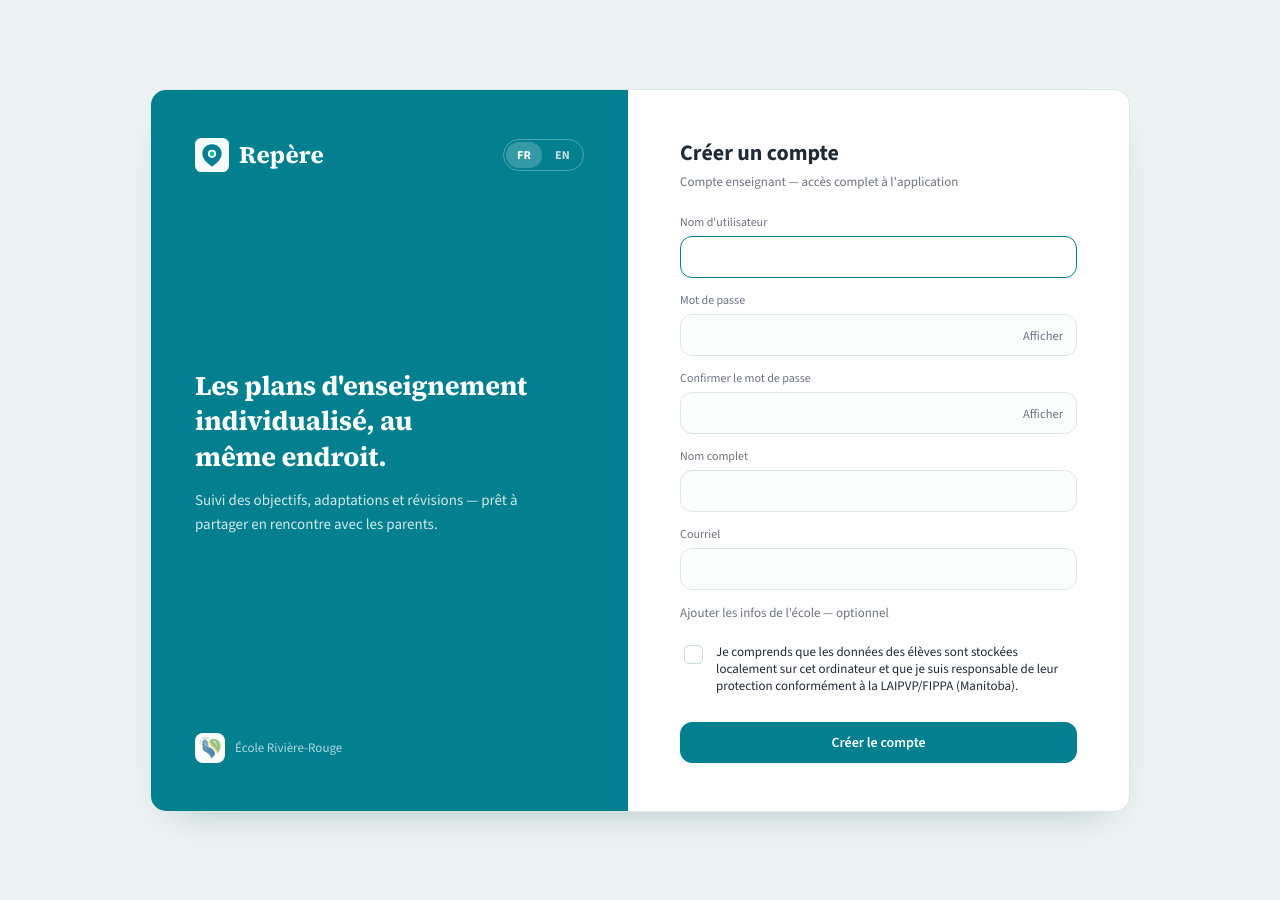
it: AuthScreen — creation de compte (validation cote client) › refuse une confirmation de mot de passe qui ne correspond pas
The width and height of the screenshot is (1280, 900).
Type "prof" into the field labelled "Nom d'utilisateur".
click(879, 256); type("prof")  # box left=680, top=236, right=1077, bottom=278
Type "test1234" into the password field labelled "Mot de passe".
click(879, 334); type("test1234")  # box left=680, top=314, right=1077, bottom=356
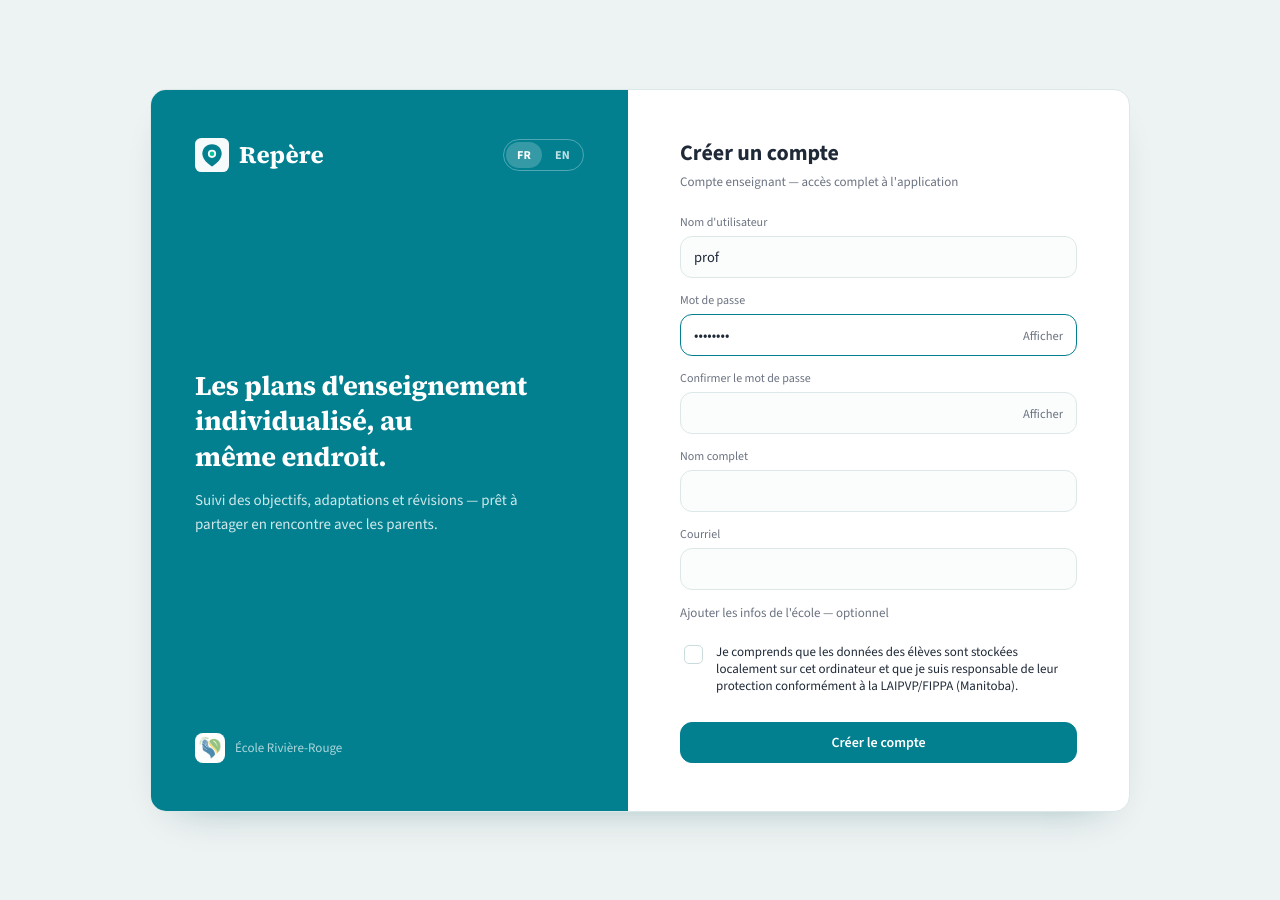
Type "test1234" into the password field labelled "Confirmer le mot de passe".
click(879, 412); type("test1234")  # box left=680, top=392, right=1077, bottom=434
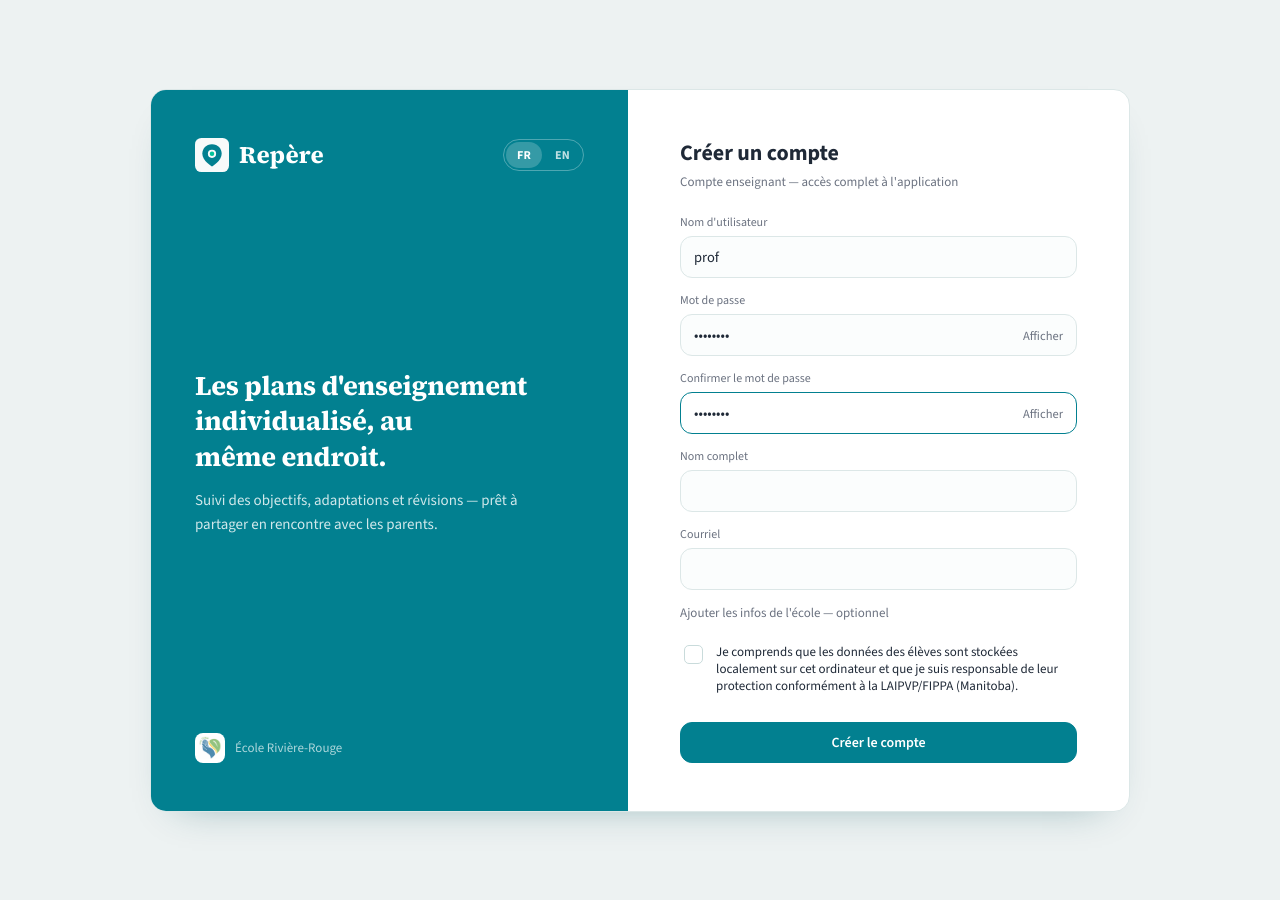
Type "Baudouin Mandan" into the field labelled "Nom complet".
click(879, 490); type("Baudouin Mandan")  # box left=680, top=470, right=1077, bottom=512
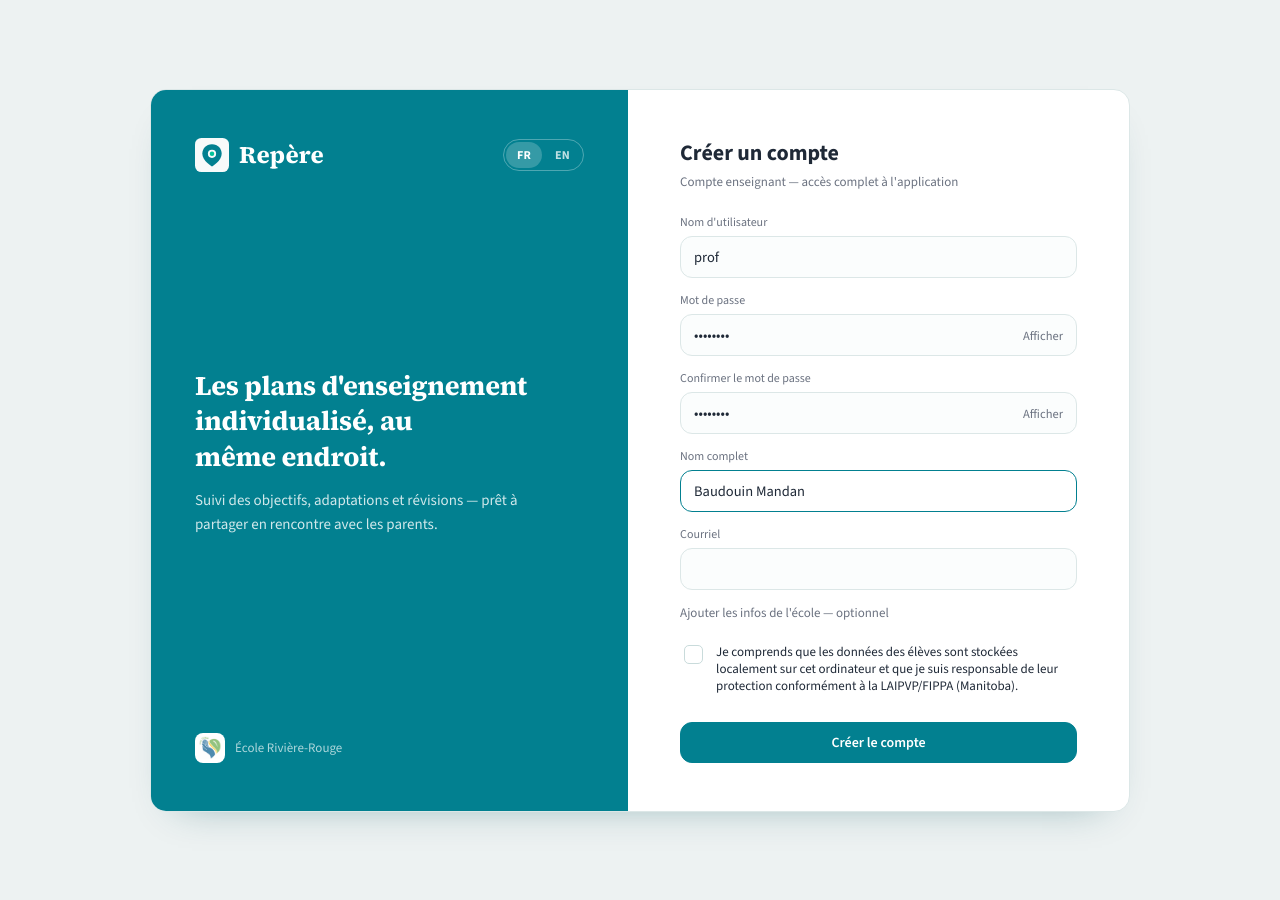
Type "prof@ecole.ca" into the field labelled "Courriel".
click(879, 568); type("prof@ecole.ca")  # box left=680, top=548, right=1077, bottom=590
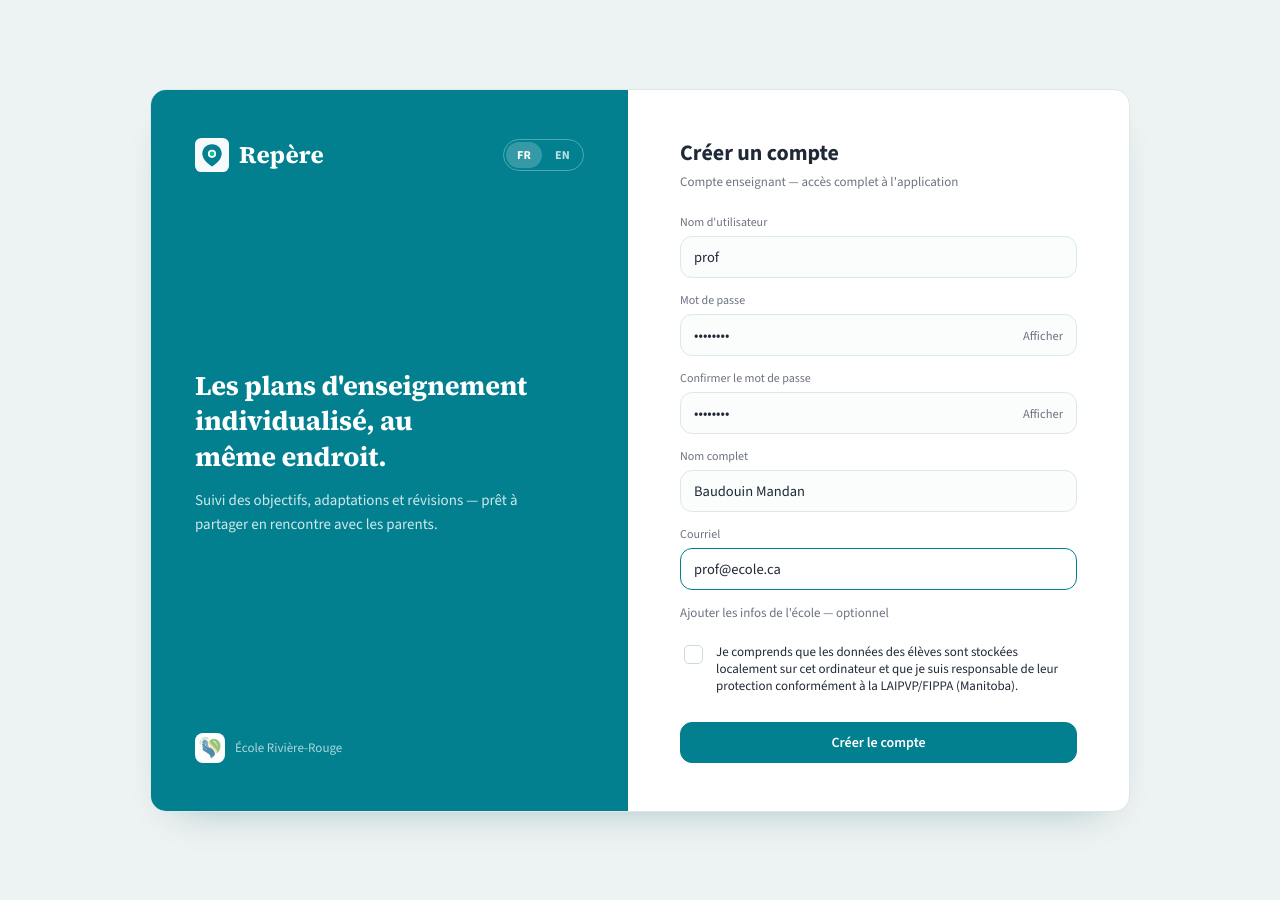
Type "autre-chose" into the password field labelled "Confirmer le mot de passe".
click(879, 412); type("autre-chose")  # box left=680, top=392, right=1077, bottom=434
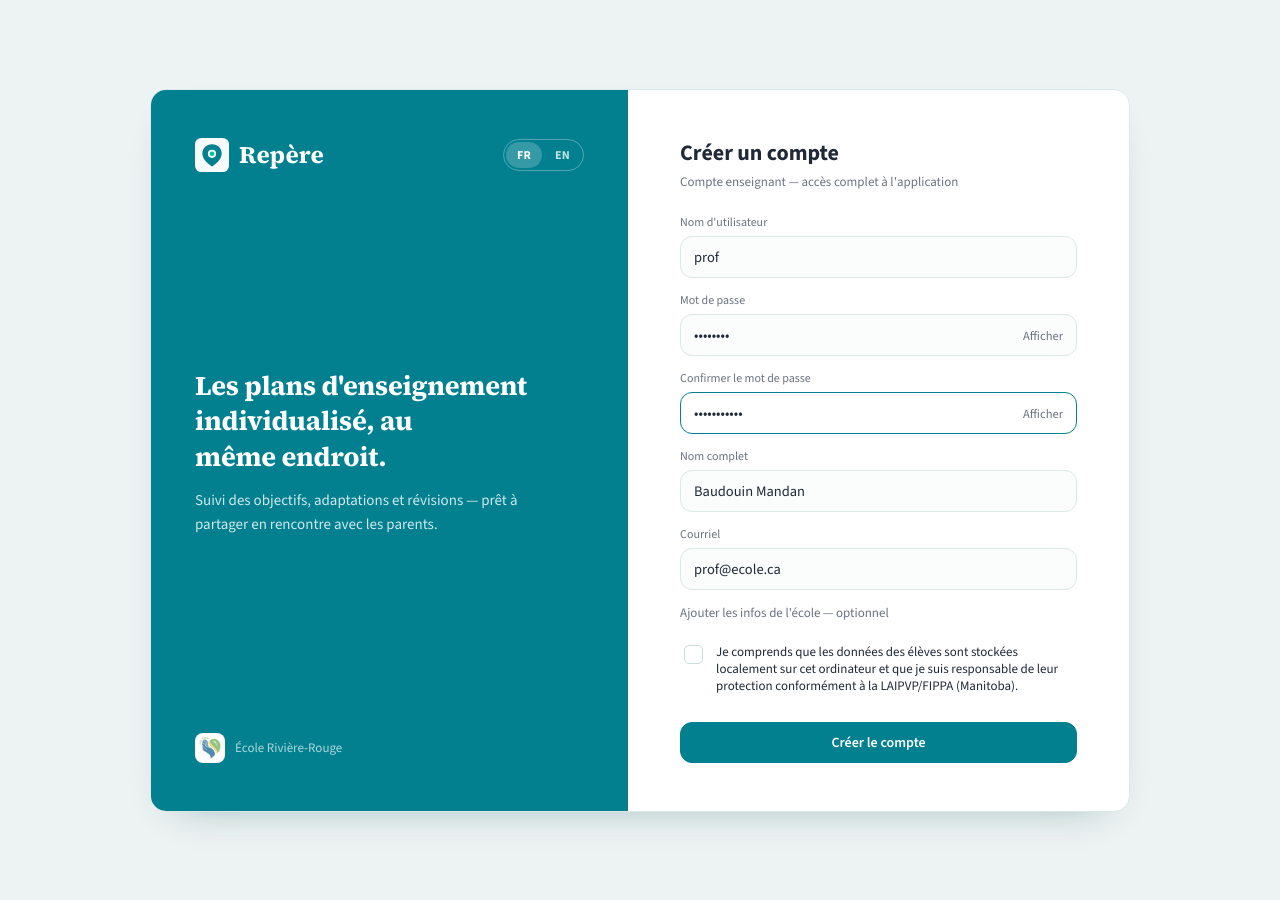
Click the button "Créer le compte".
click(879, 742)  # box left=680, top=722, right=1077, bottom=762
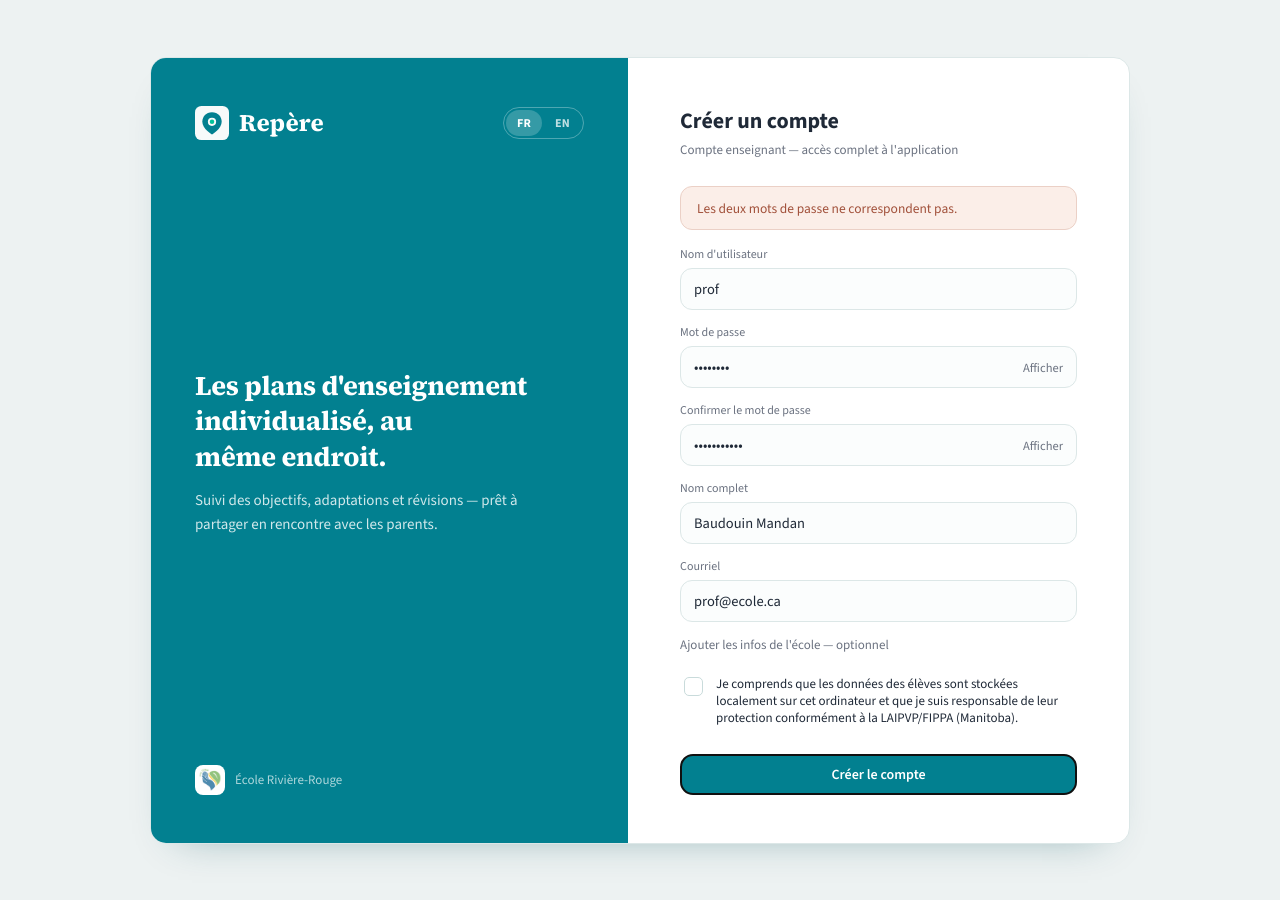
Check: the text "Les deux mots de passe ne correspondent pas." is shown, box left=680, top=186, right=1077, bottom=230
